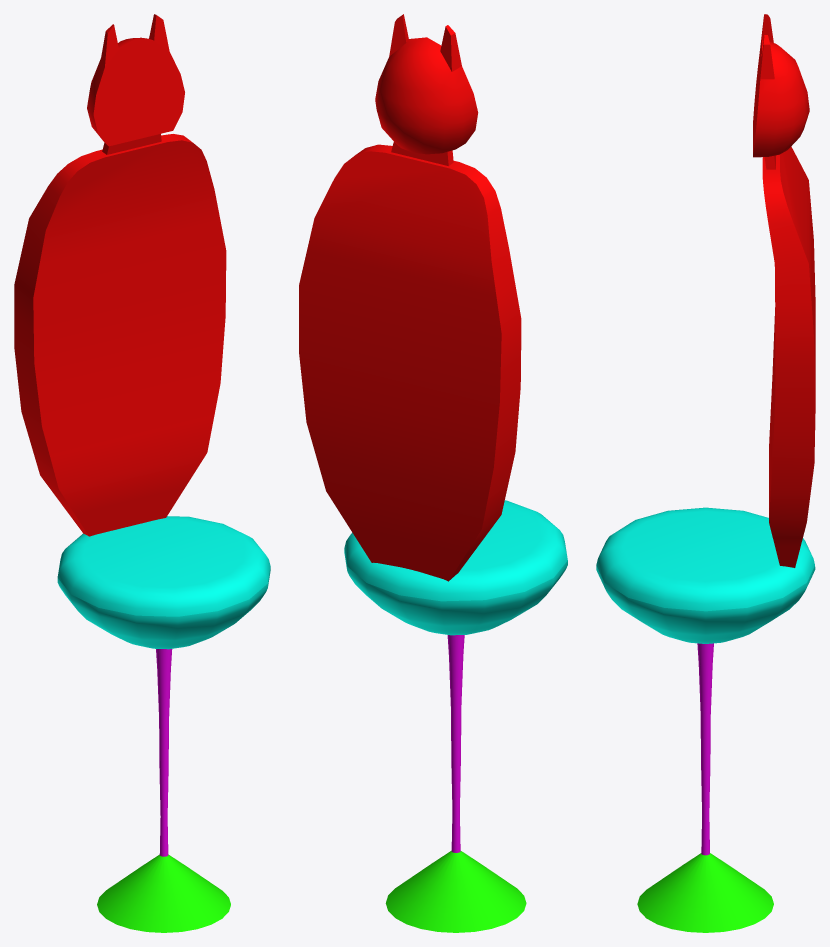
File: umgebung_jimmy_stuhl_low.FBX
3 renders of one model, left to right at view 1: azimuth 30°, elevation 25°; view 2: azimuth 150°, elevation 25°; view 3: azimuth 270°, elevation 25°, orthographic. The views are drawn at different scales.
Visible parts, largest first — view 1: o_jimmy_ruecken_low, o_jimmy_sitzflaesche_low, o_jimmy_kopfstueck_low, o_jimmy_stuhlstuetze_low, o_jimmy_stuhlbein_low; view 2: o_jimmy_ruecken_low, o_jimmy_sitzflaesche_low, o_jimmy_kopfstueck_low, o_jimmy_stuhlstuetze_low, o_jimmy_stuhlbein_low; view 3: o_jimmy_sitzflaesche_low, o_jimmy_ruecken_low, o_jimmy_stuhlstuetze_low, o_jimmy_kopfstueck_low, o_jimmy_stuhlbein_low.
Part boxes in pixels (left/top/right/bottom): o_jimmy_ruecken_low: left=14, top=134, right=226, bottom=536; o_jimmy_sitzflaesche_low: left=57, top=516, right=270, bottom=649; o_jimmy_kopfstueck_low: left=87, top=14, right=184, bottom=146; o_jimmy_stuhlstuetze_low: left=97, top=854, right=230, bottom=932; o_jimmy_stuhlbein_low: left=156, top=649, right=172, bottom=856; o_jimmy_ruecken_low: left=299, top=144, right=521, bottom=581; o_jimmy_sitzflaesche_low: left=344, top=500, right=567, bottom=635; o_jimmy_kopfstueck_low: left=375, top=14, right=478, bottom=154; o_jimmy_stuhlstuetze_low: left=385, top=850, right=526, bottom=932; o_jimmy_stuhlbein_low: left=447, top=635, right=464, bottom=852; o_jimmy_sitzflaesche_low: left=596, top=507, right=815, bottom=643; o_jimmy_ruecken_low: left=762, top=146, right=815, bottom=567; o_jimmy_stuhlstuetze_low: left=637, top=853, right=773, bottom=932; o_jimmy_kopfstueck_low: left=753, top=14, right=809, bottom=157; o_jimmy_stuhlbein_low: left=697, top=643, right=713, bottom=855.
Size of the model in its own units: 83.66 by 80.87 by 358.
